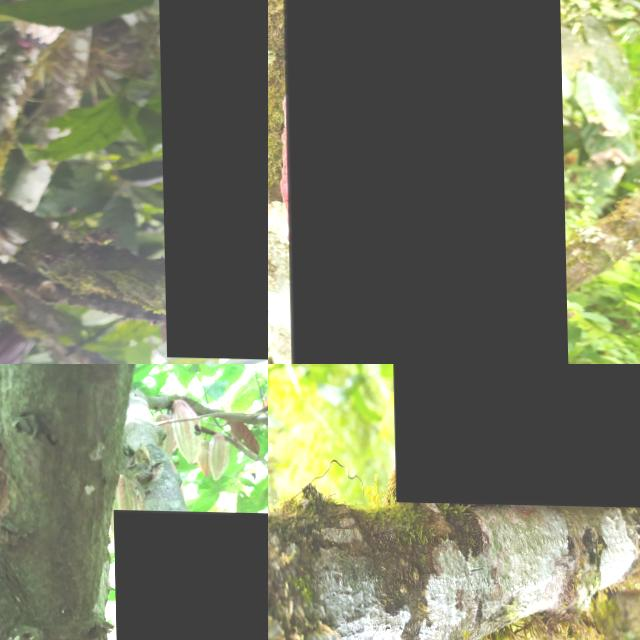Fitoftora: (389, 364, 640, 507), (112, 508, 268, 640)
Monilia: (157, 0, 268, 360)
Sana: (283, 0, 567, 364), (173, 397, 202, 462), (202, 430, 232, 483)
